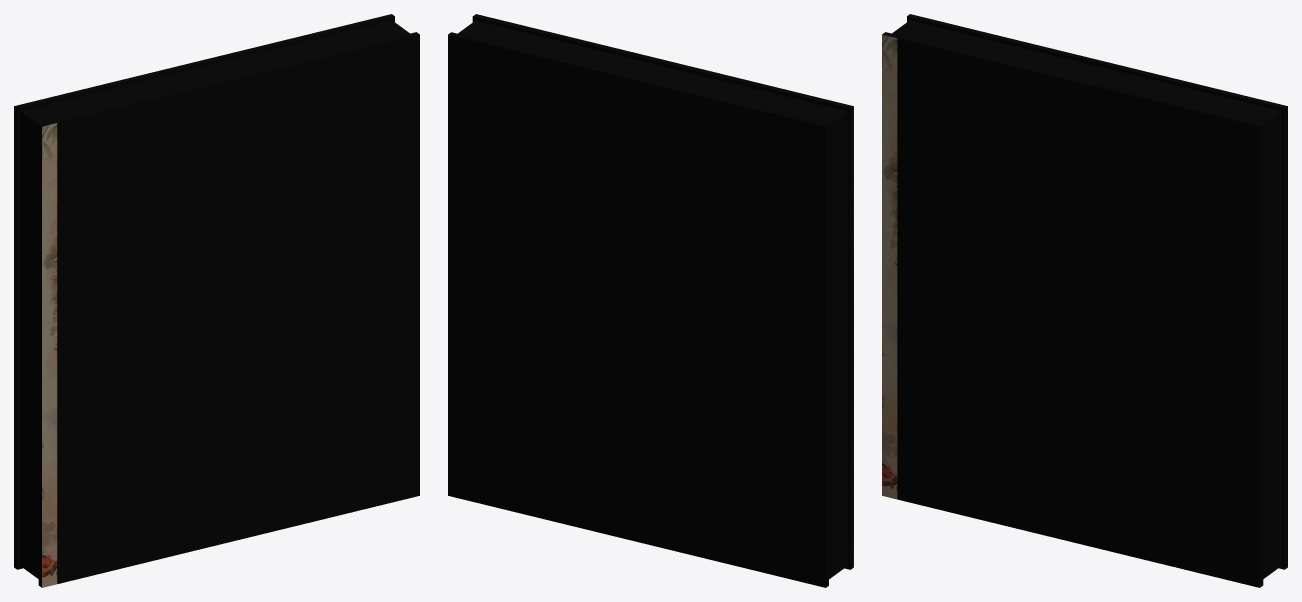
File: sneh-sagar-book.glb
3 renders of one model, left to right at view 1: azimuth 30°, elevation 25°; view 2: azimuth 150°, elevation 25°; view 3: azimuth 330°, elevation 25°, orthographic.
Visible parts, largest first — view 1: world; view 2: world; view 3: world.
Boxes of the visible parts, box(x1,y1,x2,y2) form: world: box(14, 14, 419, 587); world: box(448, 14, 853, 587); world: box(882, 14, 1287, 587).
Size of the model in its own units: 2.43 by 2.84 by 0.312.
1 material, 1 textured.
